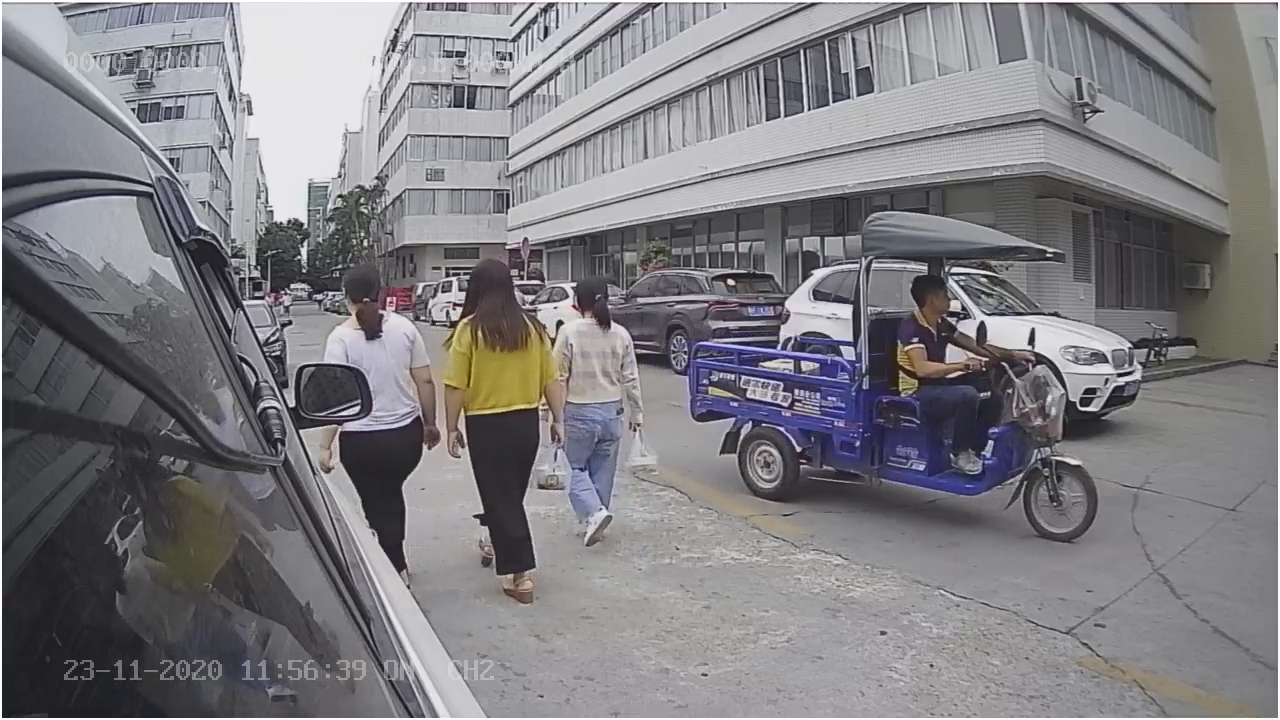person: (439, 255, 565, 617), (315, 260, 441, 597), (544, 268, 659, 560), (890, 273, 981, 394)
